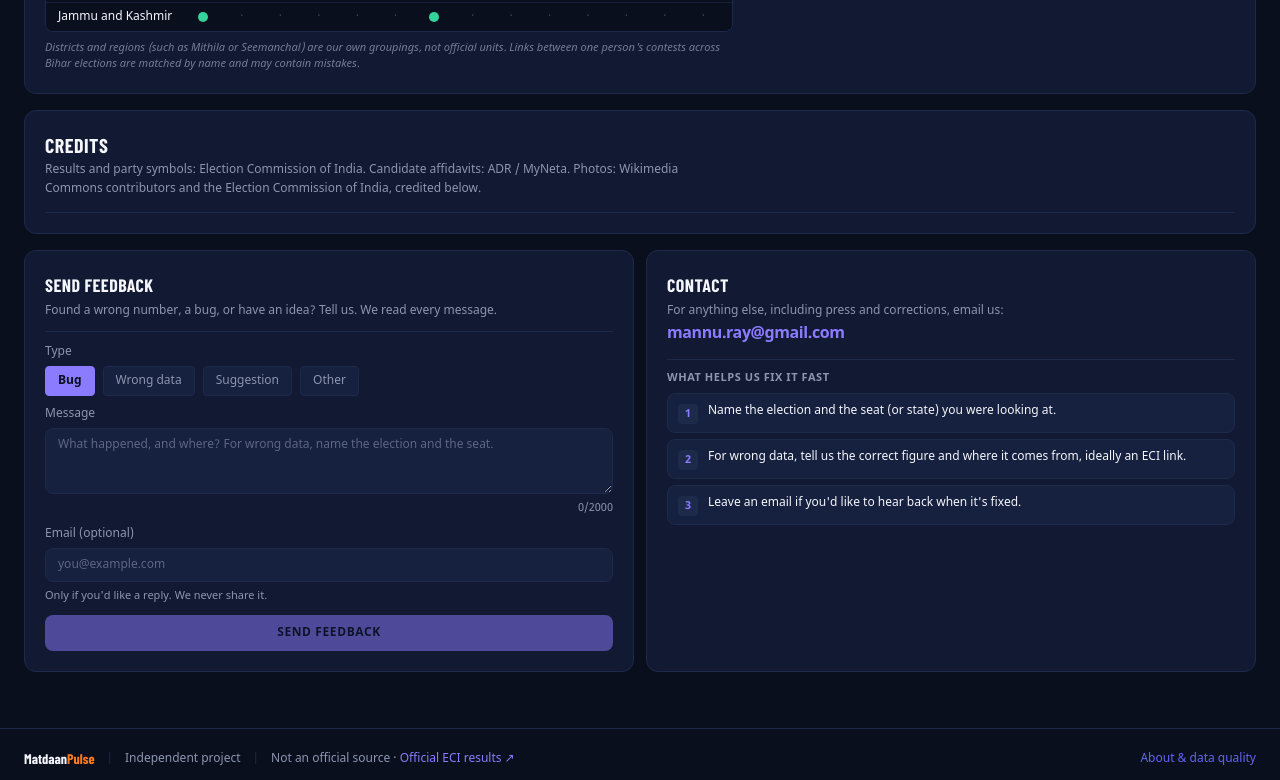
Test case: About page › sends kind, trimmed message, email and the page it came from, then thanks
(page scrolled)
Click the radio button labelled "Wrong data" at [149, 380], box [102, 366, 195, 396]
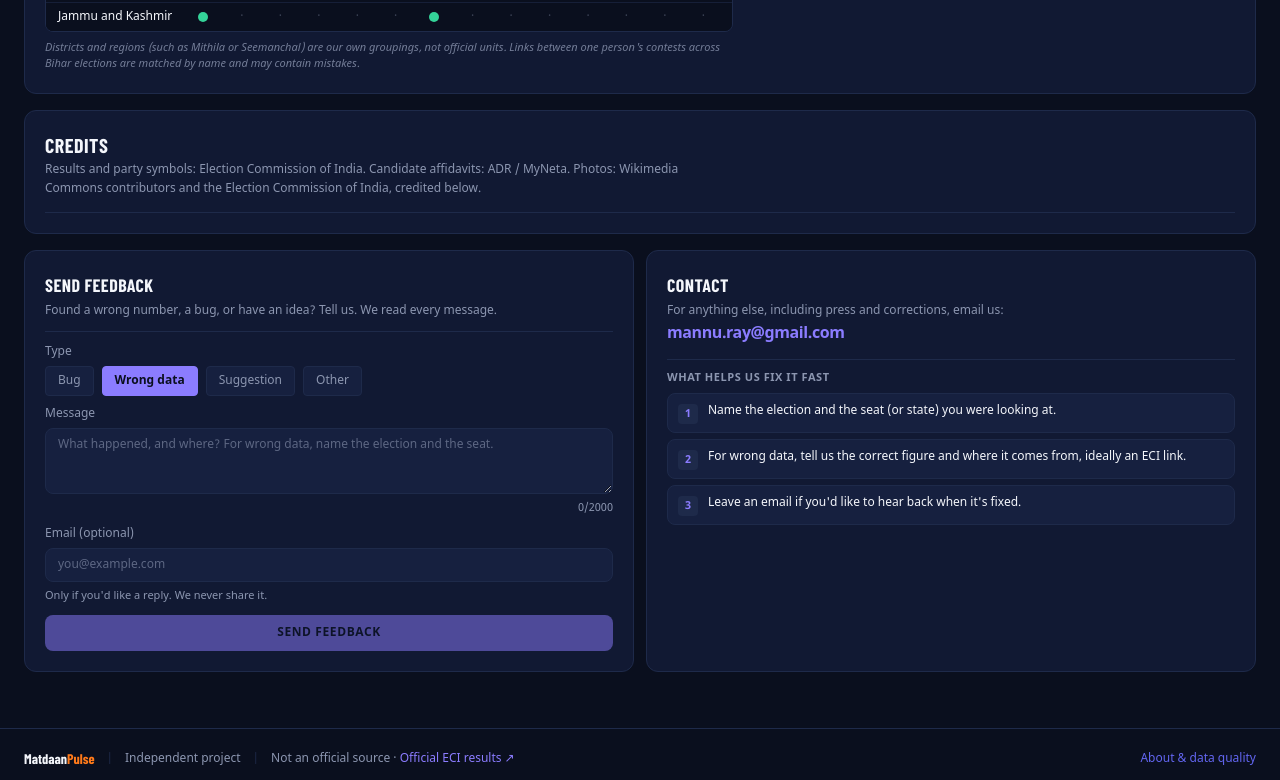
Replace the text in the text box labelled "Message 0/2000" with "  Seat 12 shows the wrong winner  " at [329, 460], box [45, 428, 613, 494]
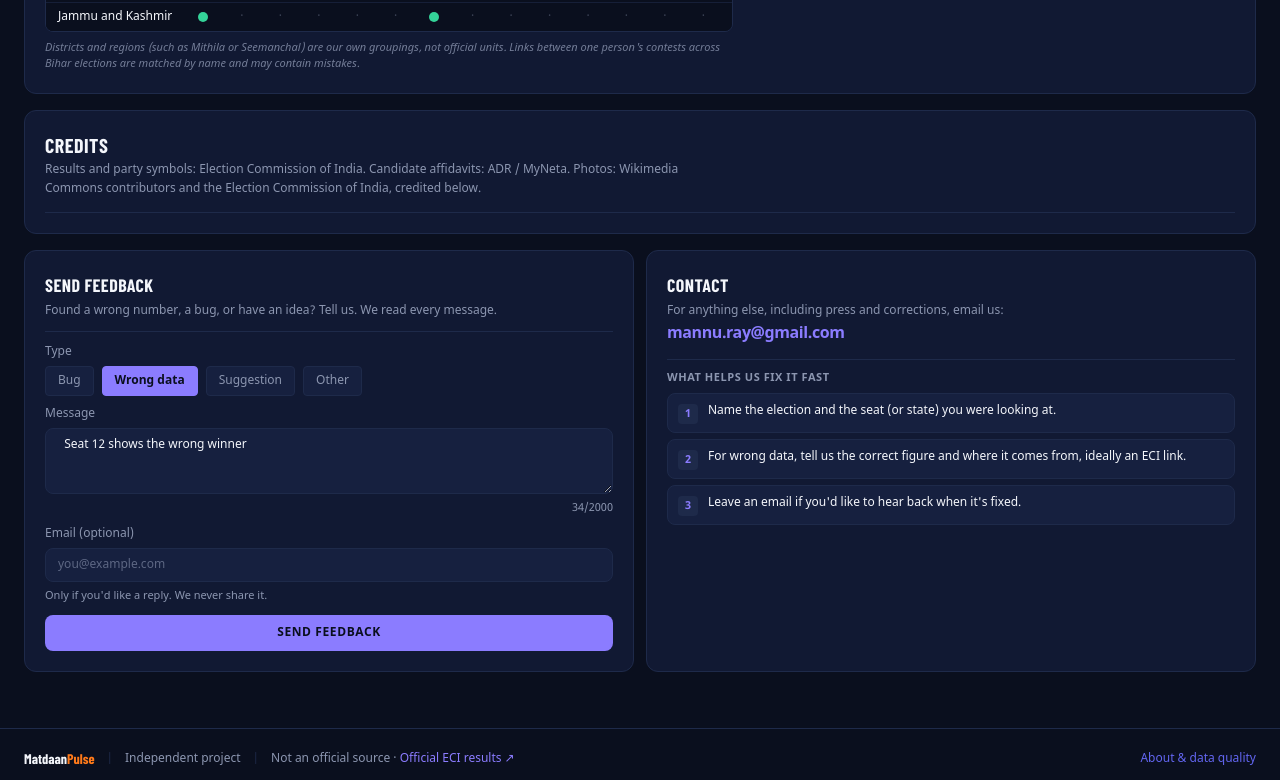
Type "a@b.in" into the field labelled "Email" at [329, 565], box [45, 548, 613, 582]
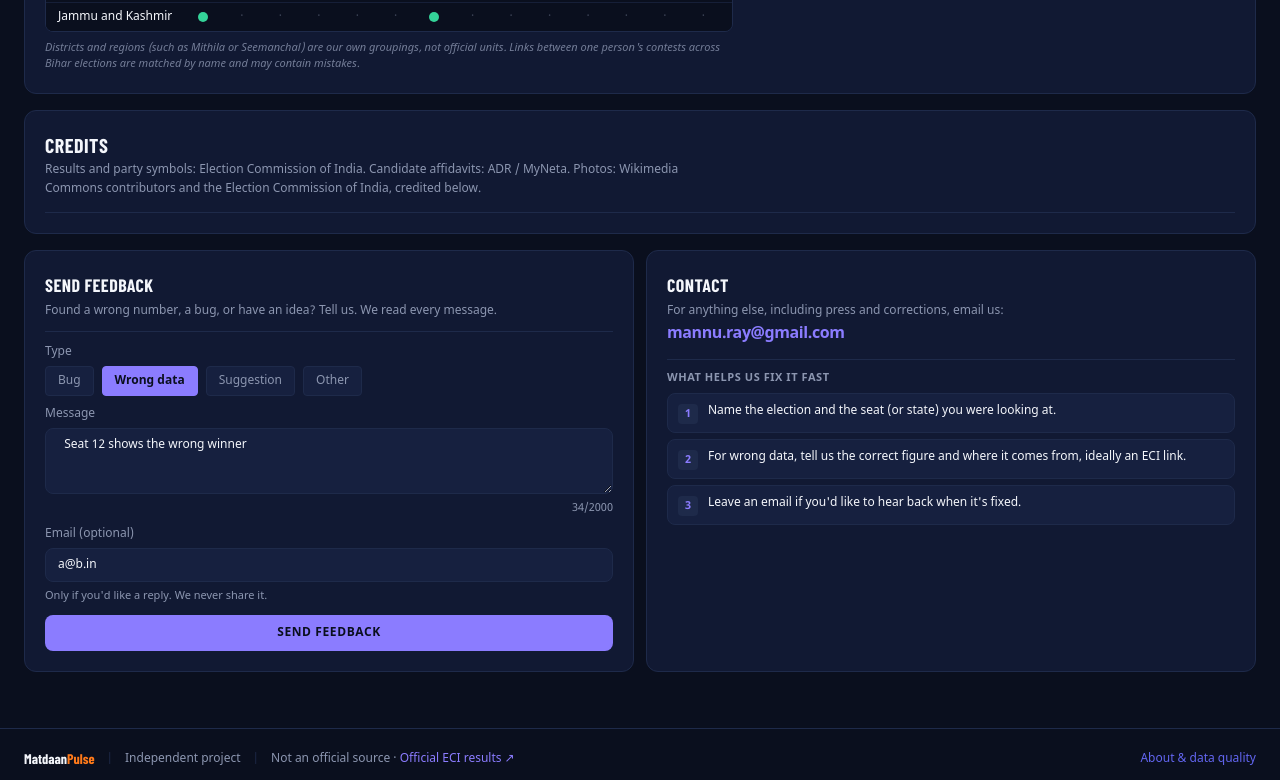
Click the button "Send feedback" at [329, 632], box [45, 614, 613, 650]
(page scrolled)
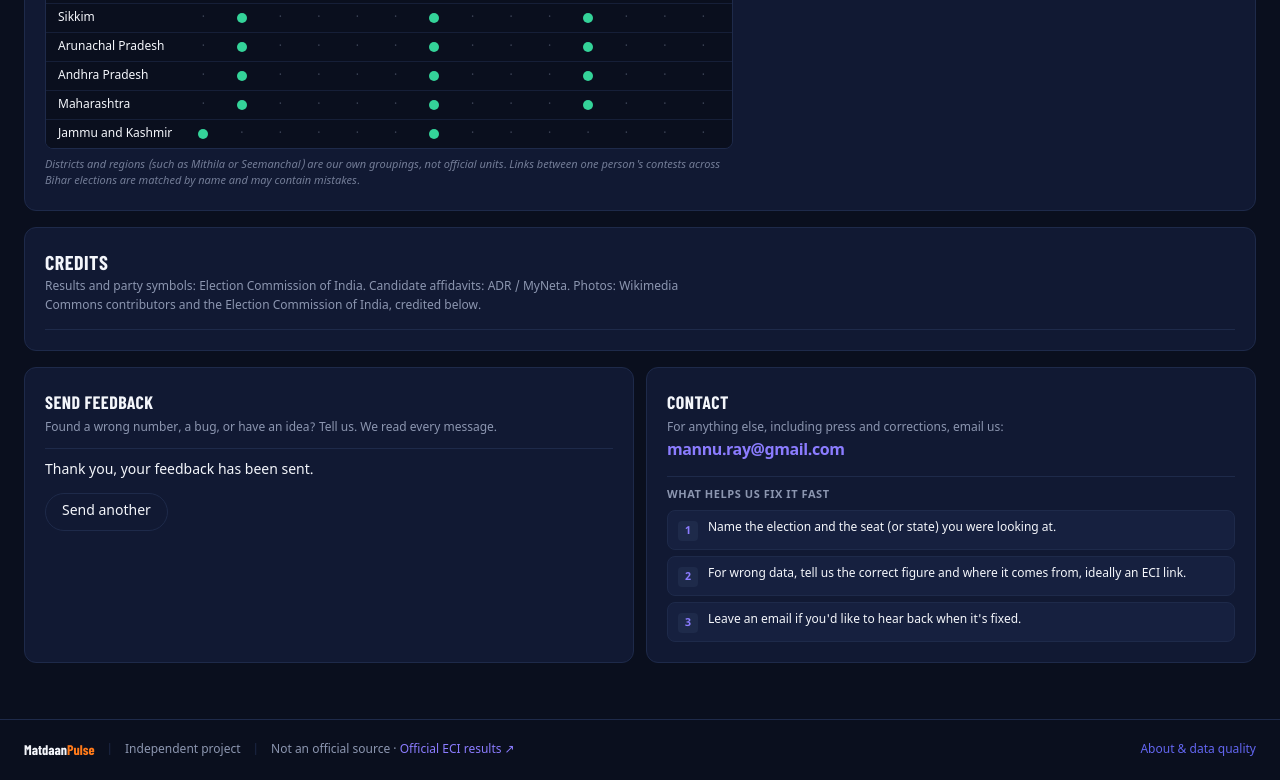
Now the message shows "Thank you", box [45, 460, 314, 480]
